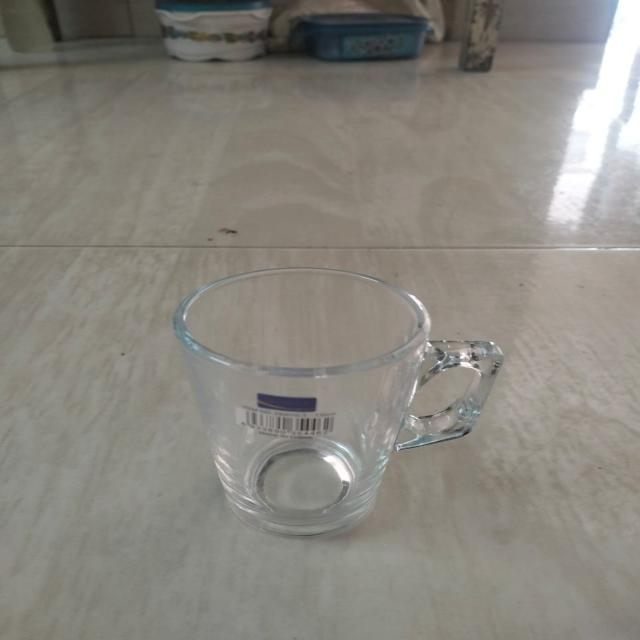glass-VX4N: (173, 260, 509, 545)
